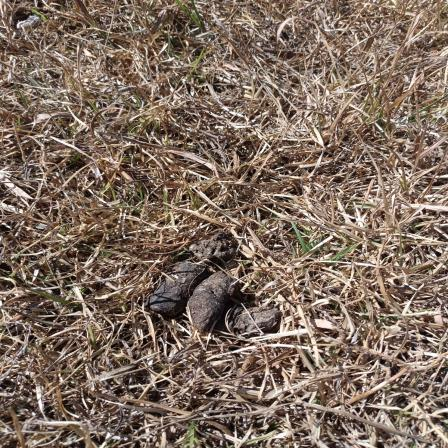dog-poop: (133, 214, 287, 338)
